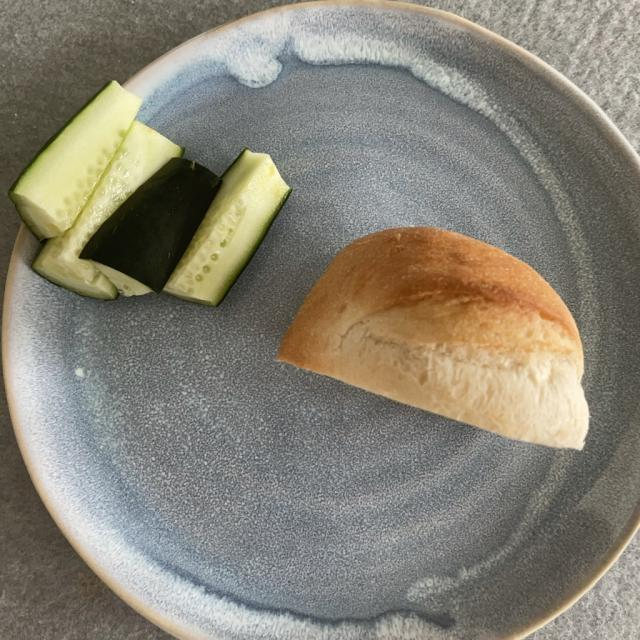bread: (284, 229, 586, 447)
cucumber: (20, 89, 284, 301)
